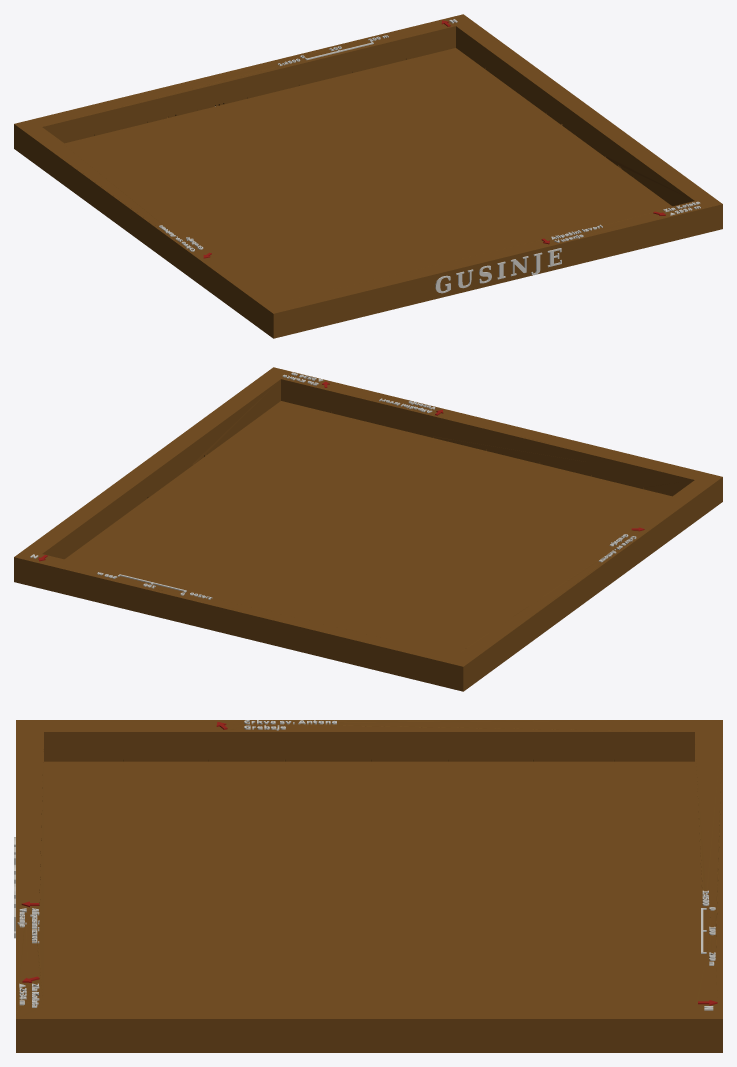
File: tray.glb
3 views of the same model, one above another, from view 1: azimuth 30°, elevation 25°; view 2: azimuth 150°, elevation 25°; view 3: azimuth 270°, elevation 25° (orthographic). The views are drawn at different scales.
Visible parts, largest first — view 1: tray; view 2: tray; view 3: tray.
Boxes of the visible parts, left/top/right/bottom form: tray: left=14, top=14, right=722, bottom=338; tray: left=14, top=367, right=722, bottom=691; tray: left=14, top=720, right=722, bottom=1052.
Size of the model in its own units: 300 by 16.51 by 301.
